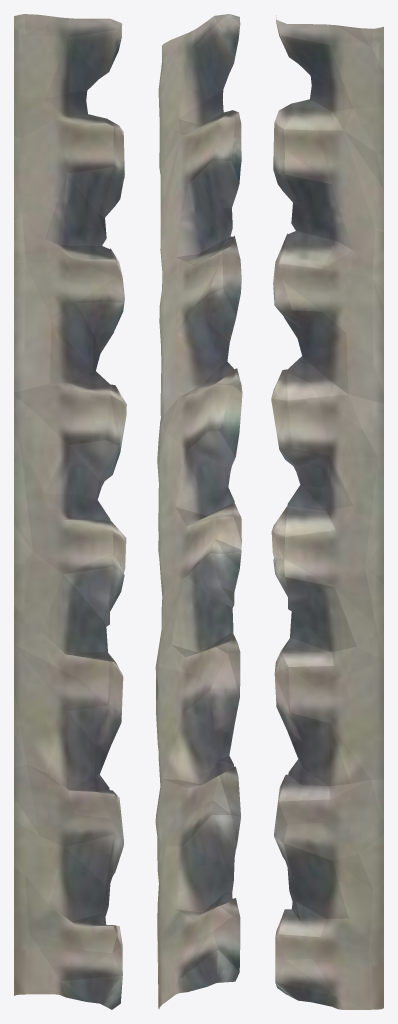
Rendered from Tile_+004_+000_L21_0003310.glb.
3 views of the same model, side by side, from view 1: azimuth 90°, elevation 25°; view 2: azimuth 150°, elevation 25°; view 3: azimuth 270°, elevation 25° (orthographic). The views are drawn at different scales.
Visible parts, largest first — view 1: rtc; view 2: rtc; view 3: rtc.
Boxes of the visible parts, x1,y1,x2,y2 form: rtc: [14, 14, 126, 1009]; rtc: [155, 14, 242, 1009]; rtc: [271, 15, 383, 1009].
Size of the model in its own units: 0.5948 by 16.09 by 1.68.
Materials: 1 (1 with a texture image).
